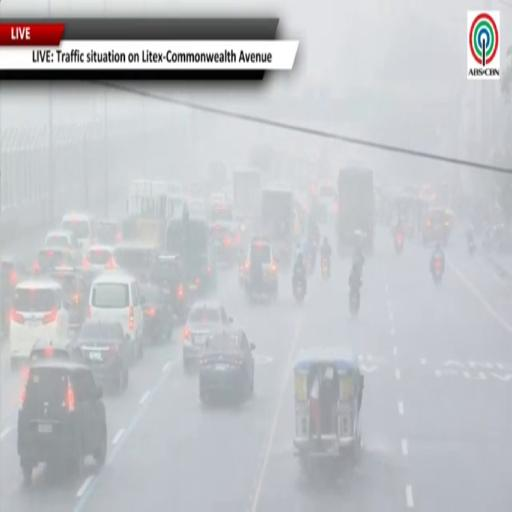car: (18, 359, 107, 484), (10, 279, 68, 369), (89, 271, 144, 360), (74, 320, 130, 392), (200, 328, 254, 402), (183, 300, 232, 371), (150, 254, 188, 322), (49, 267, 88, 331), (0, 258, 26, 338), (244, 237, 278, 298), (140, 284, 173, 342), (114, 242, 157, 280), (210, 221, 242, 265), (33, 247, 82, 274), (62, 213, 94, 249), (83, 245, 116, 275), (30, 341, 73, 363), (45, 229, 80, 252), (94, 219, 122, 245), (210, 199, 233, 222)
jeepney: (294, 348, 363, 473)
motorcycle: (293, 278, 306, 303), (432, 258, 444, 285), (349, 290, 360, 315), (395, 232, 404, 254), (321, 258, 330, 279), (468, 233, 476, 255), (468, 242, 476, 255)
truck: (166, 211, 216, 296), (336, 167, 374, 255), (261, 187, 296, 266), (233, 170, 261, 220)
